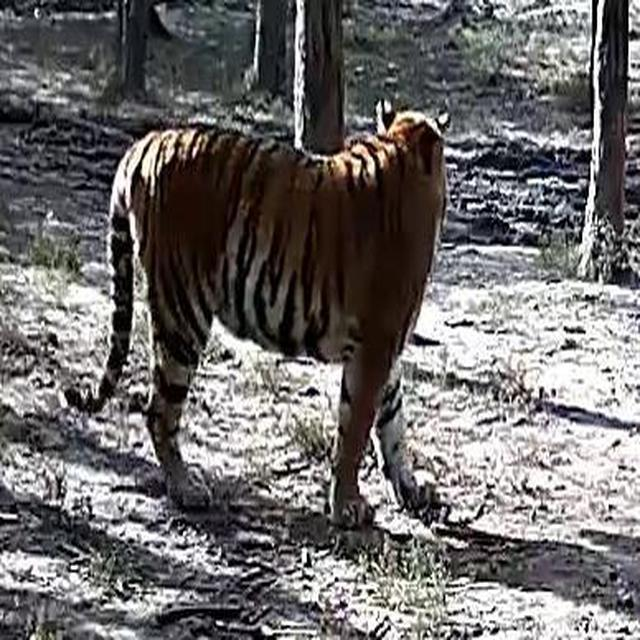tiger: (70, 97, 452, 530)
